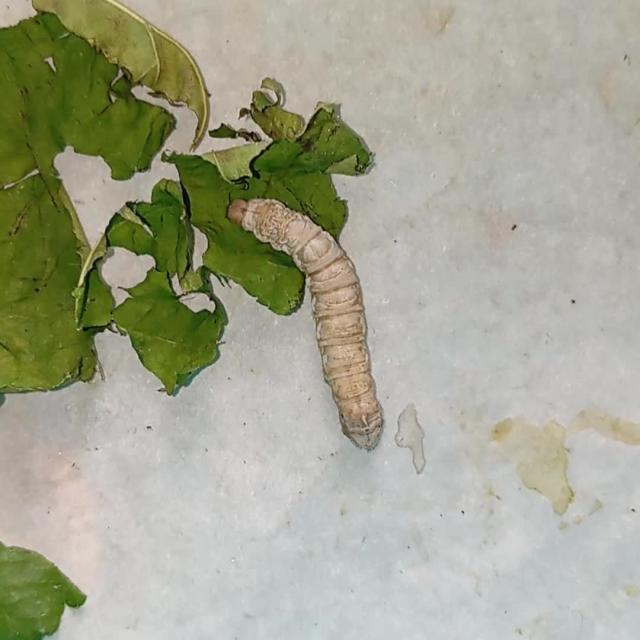Grasserie: (210, 176, 422, 466)
